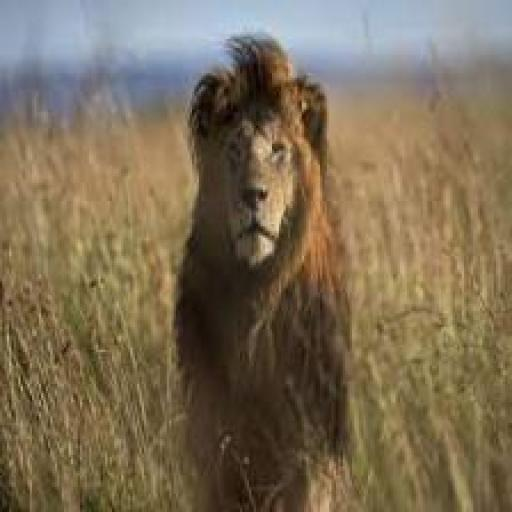lion: (96, 48, 382, 512)
